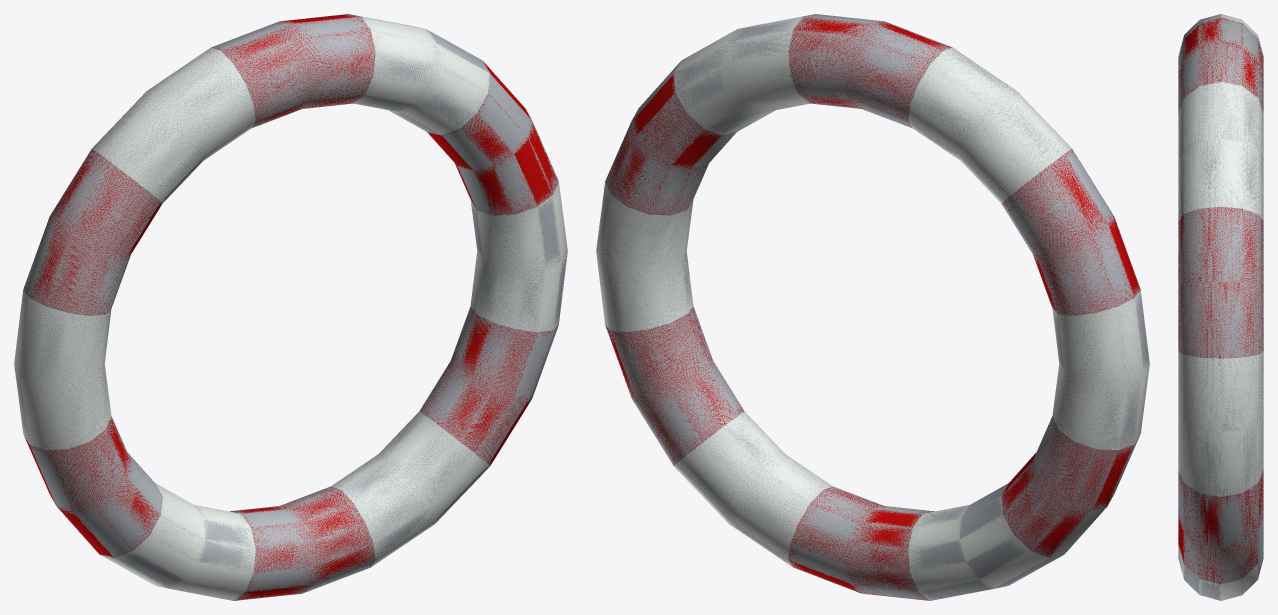
File: tir2.fbx
The picture shows the model from 3 angles, left to right: view 1: azimuth 30°, elevation 25°; view 2: azimuth 150°, elevation 25°; view 3: azimuth 270°, elevation 25°; orthographic projection. The views are drawn at different scales.
Parts seen in each view (by area): view 1: Group1; view 2: Group1; view 3: Group1.
Part boxes in pixels (<box>): Group1: <box>14,14,567,600</box>; Group1: <box>596,14,1149,600</box>; Group1: <box>1178,14,1263,600</box>.
Size of the model in its own units: 2.13 by 2.13 by 0.308.
